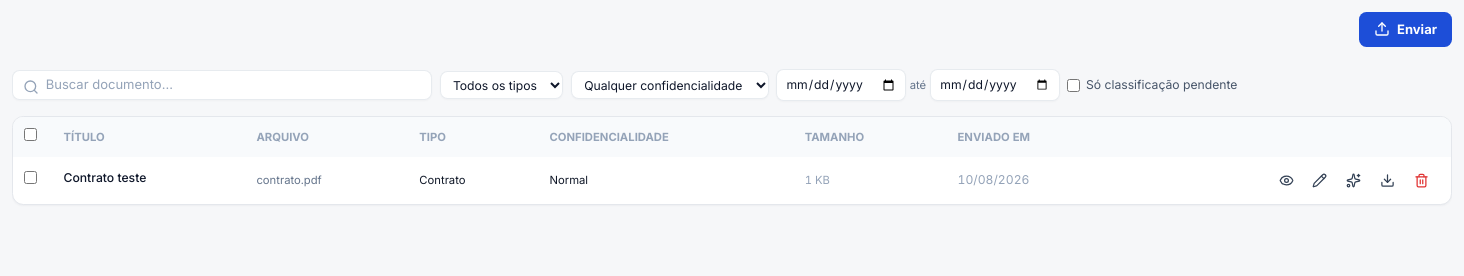
it: Documentos — RBAC de vínculo › oculta a ação para papel fora do contrato backend: financeiro
Expected: the text "Contrato teste" is shown, [48,157,241,199]
Click the checkbox named "Selecionar Contrato teste" at (31, 178), box [24,171,37,184]
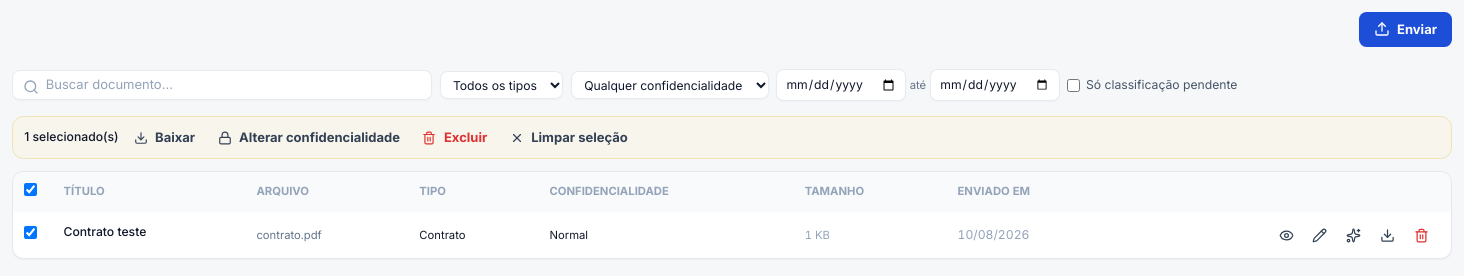
Expected: the text "1 selecionado(s)" is shown, [24,128,119,147]
